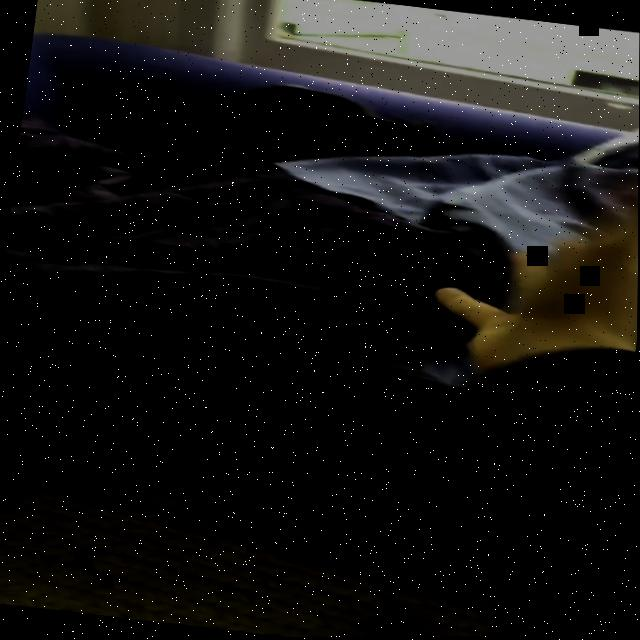Paper: (426, 155, 639, 385)
